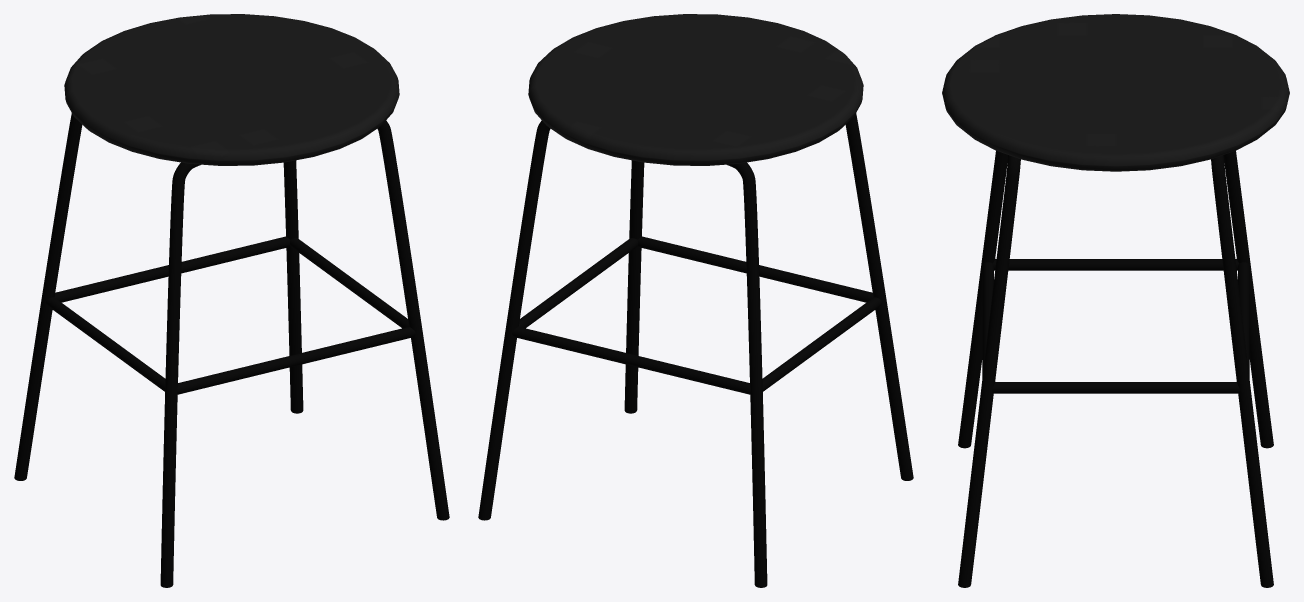
The model's file is volta_stool.glb.
3 views of the same model, side by side, from view 1: azimuth 30°, elevation 25°; view 2: azimuth 150°, elevation 25°; view 3: azimuth 270°, elevation 25° (orthographic). The views are drawn at different scales.
Visible parts, largest first — view 1: SM_Top, SM_Legs, SM_FrontStrut, SM_SideStrut; view 2: SM_Top, SM_Legs, SM_FrontStrut, SM_SideStrut; view 3: SM_Top, SM_Legs, SM_SideStrut, SM_FrontStrut.
Part boxes in pixels (x1,y1,x2,y2): SM_Top: (64,14,399,165); SM_Legs: (14,113,449,587); SM_FrontStrut: (54,236,415,394); SM_SideStrut: (45,238,409,391); SM_Top: (528,14,863,165); SM_Legs: (478,113,913,587); SM_FrontStrut: (512,236,873,394); SM_SideStrut: (518,238,882,391); SM_Top: (942,14,1289,171); SM_Legs: (958,151,1273,587); SM_SideStrut: (992,259,1239,393); SM_FrontStrut: (982,262,1249,377).
Bounding box in the file's own units: 0.3954 × 0.541 × 0.3954.
2 materials, 1 textured.
